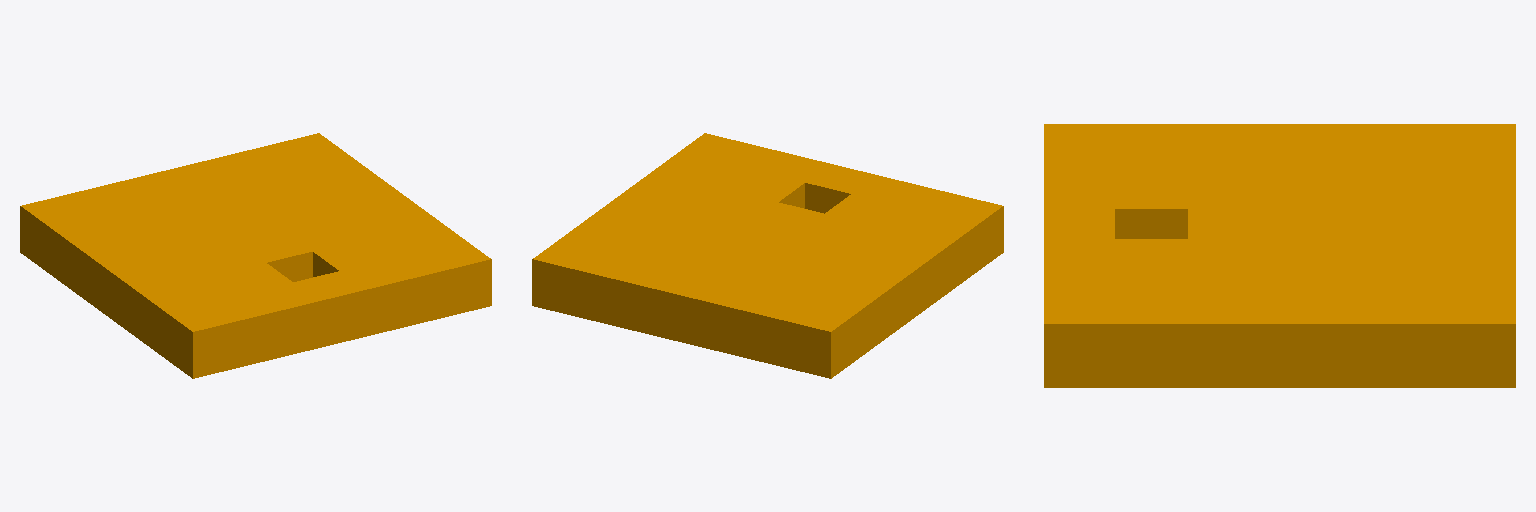
The robot description file, URDF, robot "hole":
<?xml version="1.0" ?>
<robot name="hole">
    <link name="hole">
        <visual>
            <geometry>
                <mesh filename="hole.STL" scale="0.001 0.001 0.001" />
            </geometry>
        </visual>
        <collision>
            <geometry>
                <mesh filename="hole.STL" scale="0.001 0.001 0.001" />
            </geometry>
        </collision>
    </link>
</robot>

--- What the picture shows (computed from the rendered views, not written in the file) ---
Views: 3 orthographic renders of the robot side by side, from view 1: azimuth 30°, elevation 25°; view 2: azimuth 150°, elevation 25°; view 3: azimuth 270°, elevation 25°.
Model hole with 1 links and 0 joints (none), rooted at hole, posed all joints at 0.
Links seen in each view (by area): view 1: hole; view 2: hole; view 3: hole.
Link boxes in pixels (left/top/right/bottom): hole: left=20, top=133, right=491, bottom=378; hole: left=532, top=133, right=1003, bottom=378; hole: left=1044, top=124, right=1515, bottom=387.
Bounding box of the posed robot: 0.2 × 0.2 × 0.03 m (x, y, z).
1 mesh visuals loaded from 1 distinct referenced files (1 binary STL).